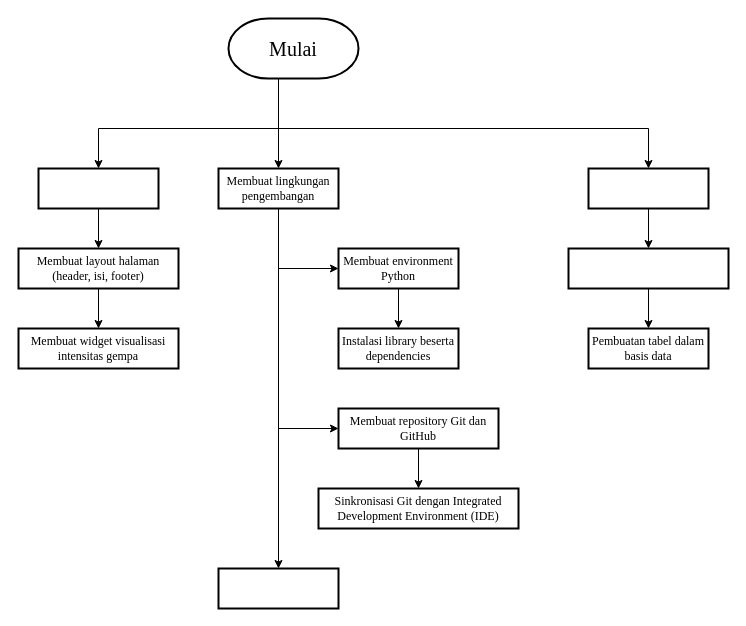
This 746x626 diagram has some shape labels left out. Here are the shapes that lost their labels. From the top down, the box of each, then its label:
(37, 167, 159, 209): Membuat sistem sisi pengguna (Client Side)
(587, 167, 709, 209): Membuat basis data
(567, 247, 729, 289): Persiapan data (pembersihan, seleksi data, reformating )
(217, 567, 339, 609): Membuat sistem sisi server (Server Side)
